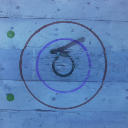Axe Tip: (55, 50, 67, 53)
